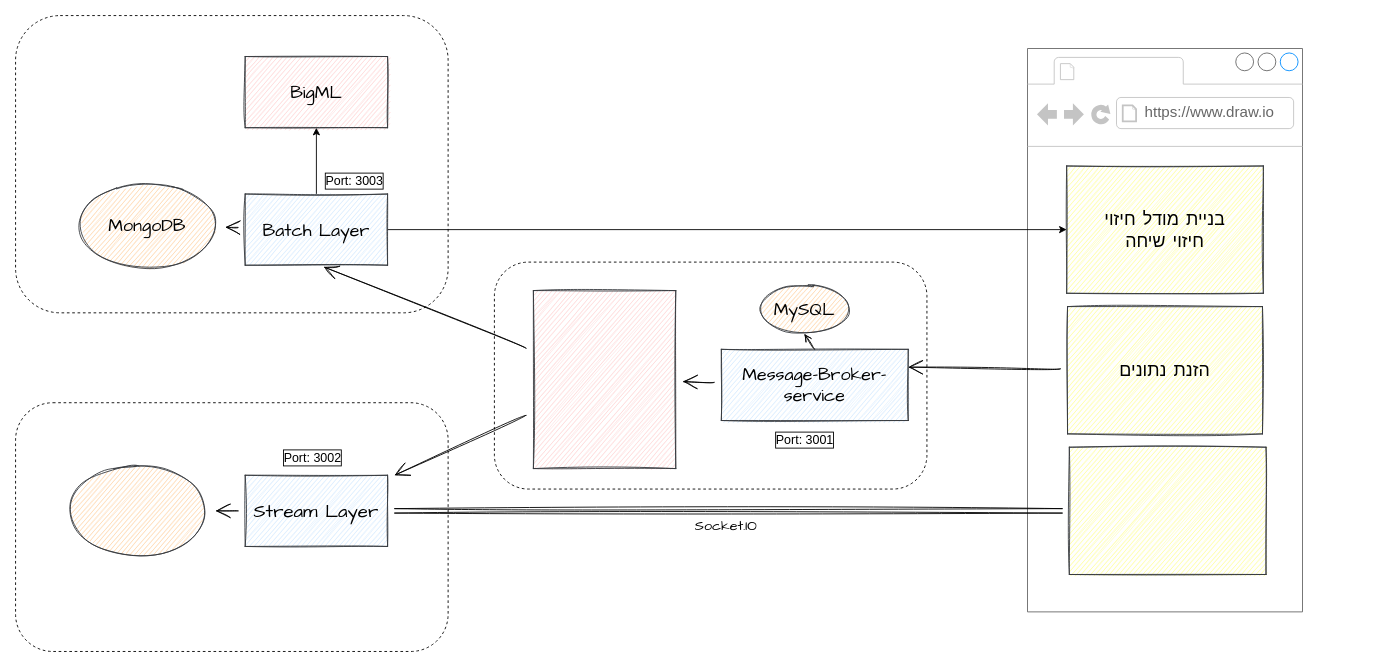
This 1381x668 diagram has some shape labels left out. Here are the shapes that lost their labels. From the top down, the centre of each, then its label:
the point at 1129,70: Page 1
the point at 604,379: CloudKarafka
the point at 137,510: Redis
the point at 1167,510: דאשבורד
